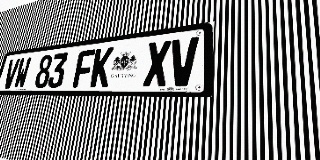3: (47, 52, 68, 88)
8: (34, 54, 54, 88)
F: (72, 49, 95, 88)
K: (89, 47, 114, 88)
V: (168, 37, 199, 86), (2, 58, 20, 89)
W: (13, 57, 32, 89)
X: (143, 40, 171, 87)
